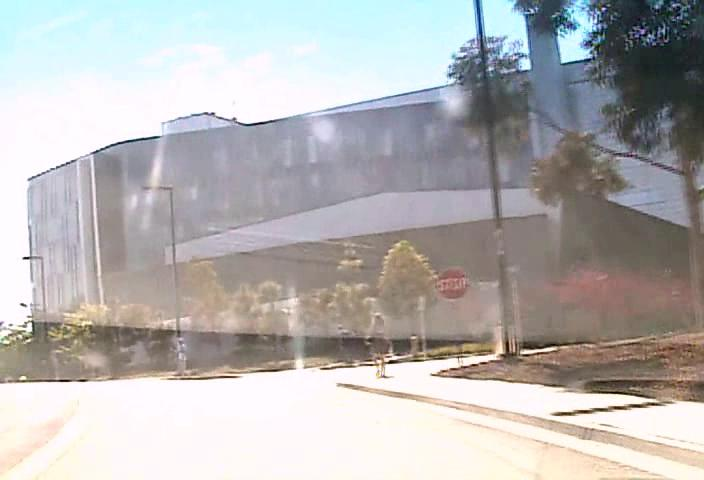stop: (433, 267, 469, 299)
